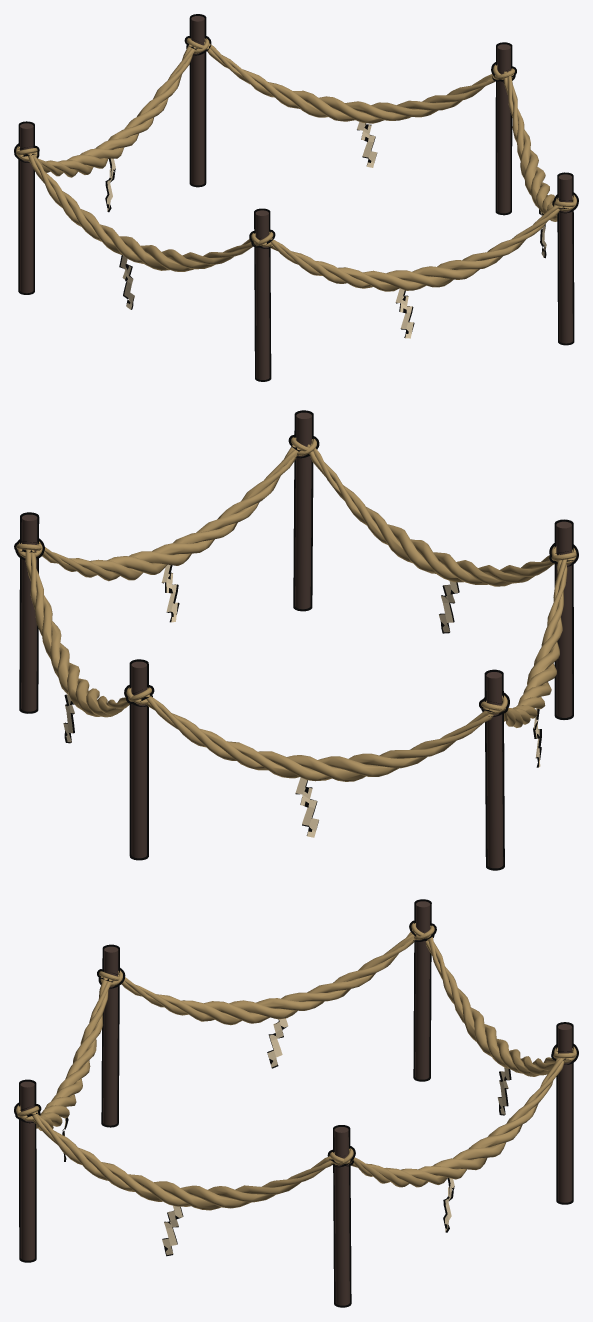
Rendered from env_treehousing.glb.
The picture shows the model from 3 angles, top to bottom: view 1: azimuth 30°, elevation 25°; view 2: azimuth 150°, elevation 25°; view 3: azimuth 270°, elevation 25°; orthographic projection. The views are drawn at different scales.
Visible parts, largest first — view 1: Circle.001; view 2: Circle.001; view 3: Circle.001.
Part boxes in pixels (x1,y1,x2,y2): Circle.001: (14, 14, 578, 381); Circle.001: (14, 410, 578, 870); Circle.001: (14, 899, 578, 1307).
Size of the model in its own units: 22.55 by 7.8 by 22.67.
2 materials, 1 textured.
